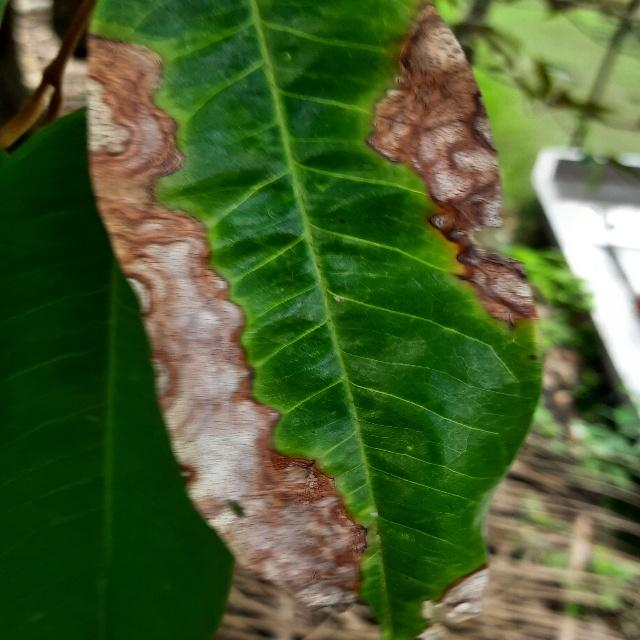Leaf Blight: (77, 0, 554, 640)
